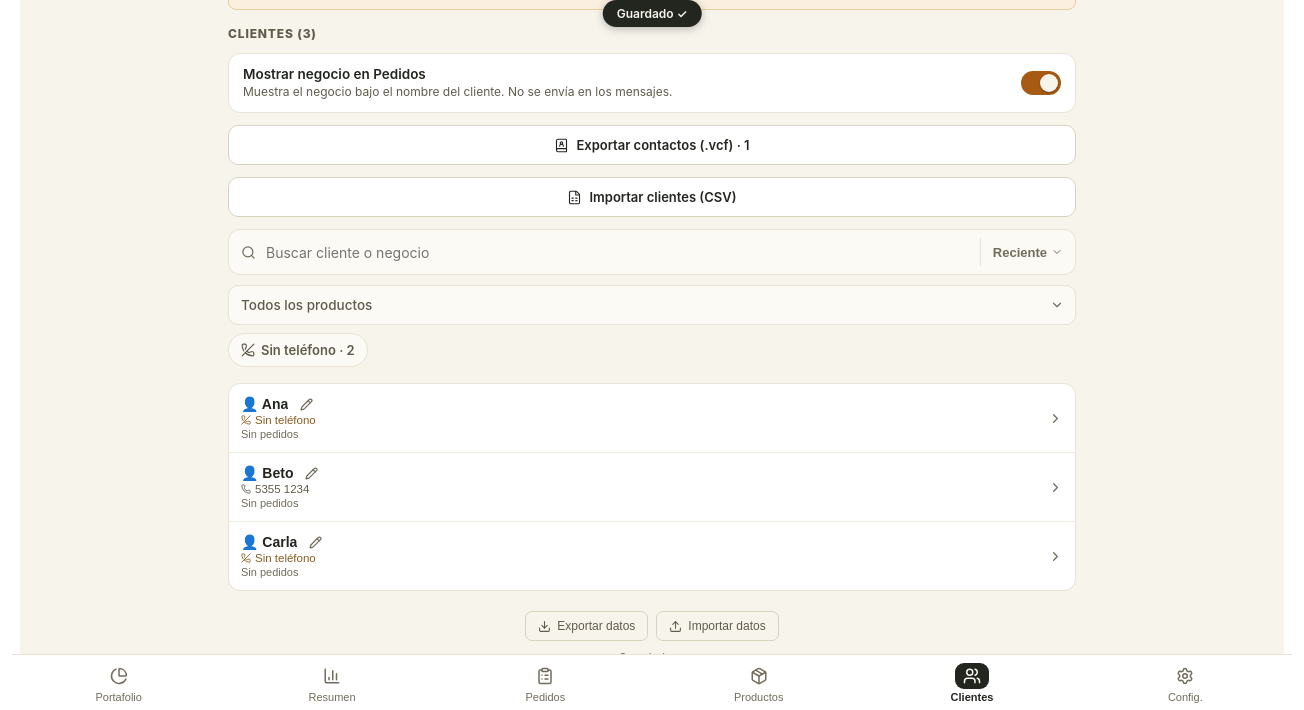
Scenario: Clientes: sin teléfono › el filtro 'Sin teléfono' muestra el total y deja solo a esos clientes
The width and height of the screenshot is (1304, 710).
(page scrolled)
Expected: the text "👤 Ana" is shown, top-left (241, 396), bottom-right (288, 412)
Click the button "Sin teléfono · 2". click: (298, 350)
box: top-left (228, 333), bottom-right (368, 367)
(page scrolled)
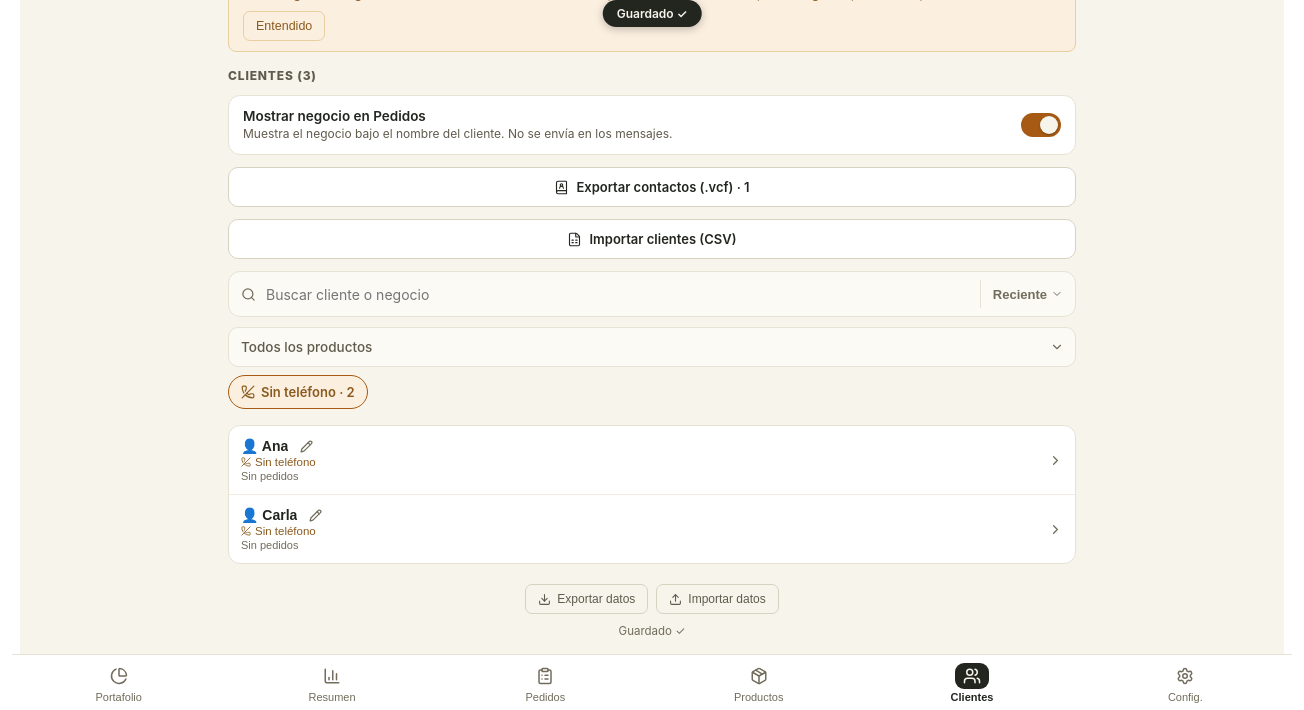
Expected: the text "👤 Ana" is shown, top-left (241, 438), bottom-right (288, 454)
Expected: the button "👤 Beto" is gone
Click the button "Sin teléfono · 2". click: (298, 392)
box: top-left (228, 375), bottom-right (368, 409)
(page scrolled)
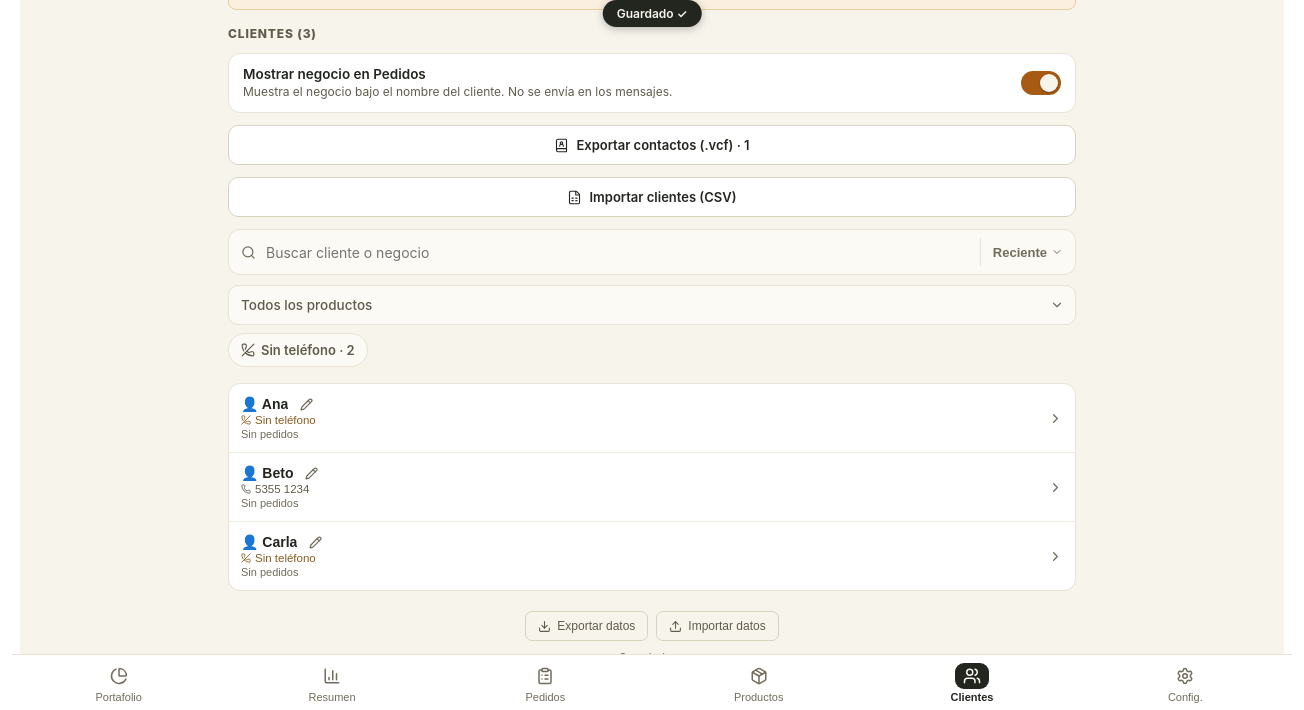
Expected: the text "👤 Beto" is shown, top-left (241, 465), bottom-right (294, 481)
